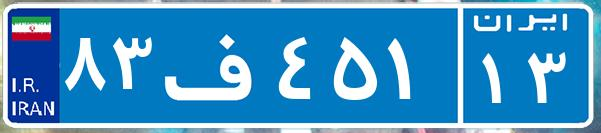1: (385, 28, 445, 110), (475, 38, 525, 113)
3: (110, 28, 158, 105), (525, 38, 570, 115)
4: (273, 28, 330, 110)
5: (330, 28, 385, 110)
8: (57, 26, 110, 107)
ف: (158, 15, 273, 115)
